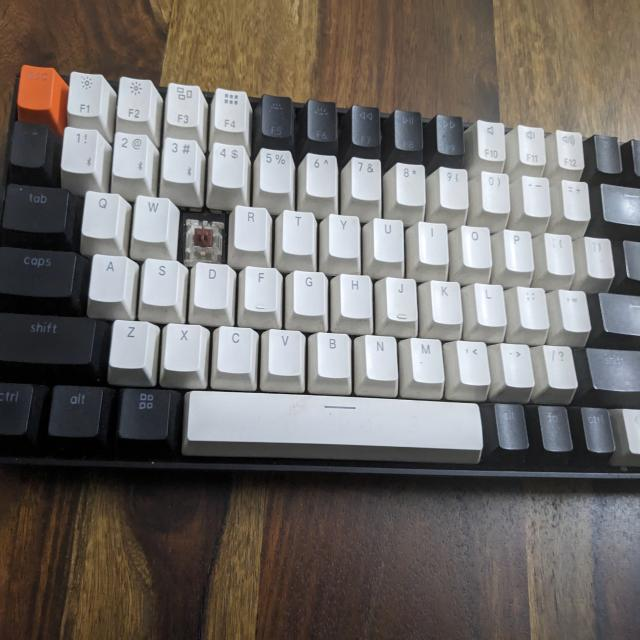C: (183, 213, 225, 262)
